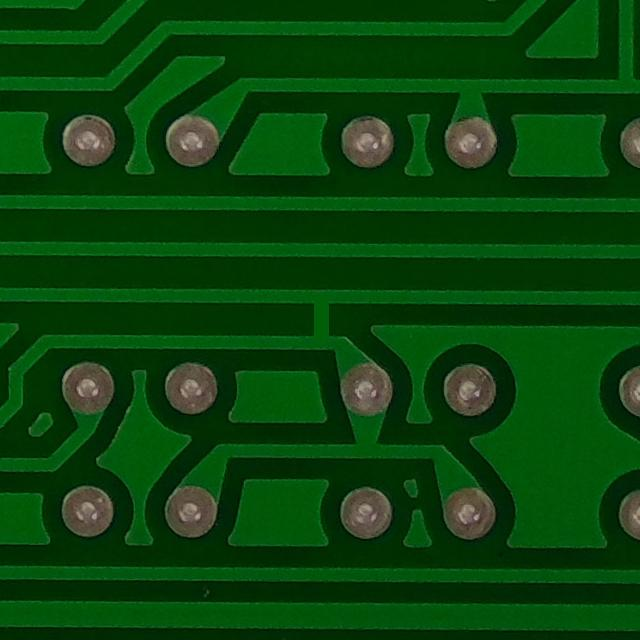short: (289, 284, 351, 357)
